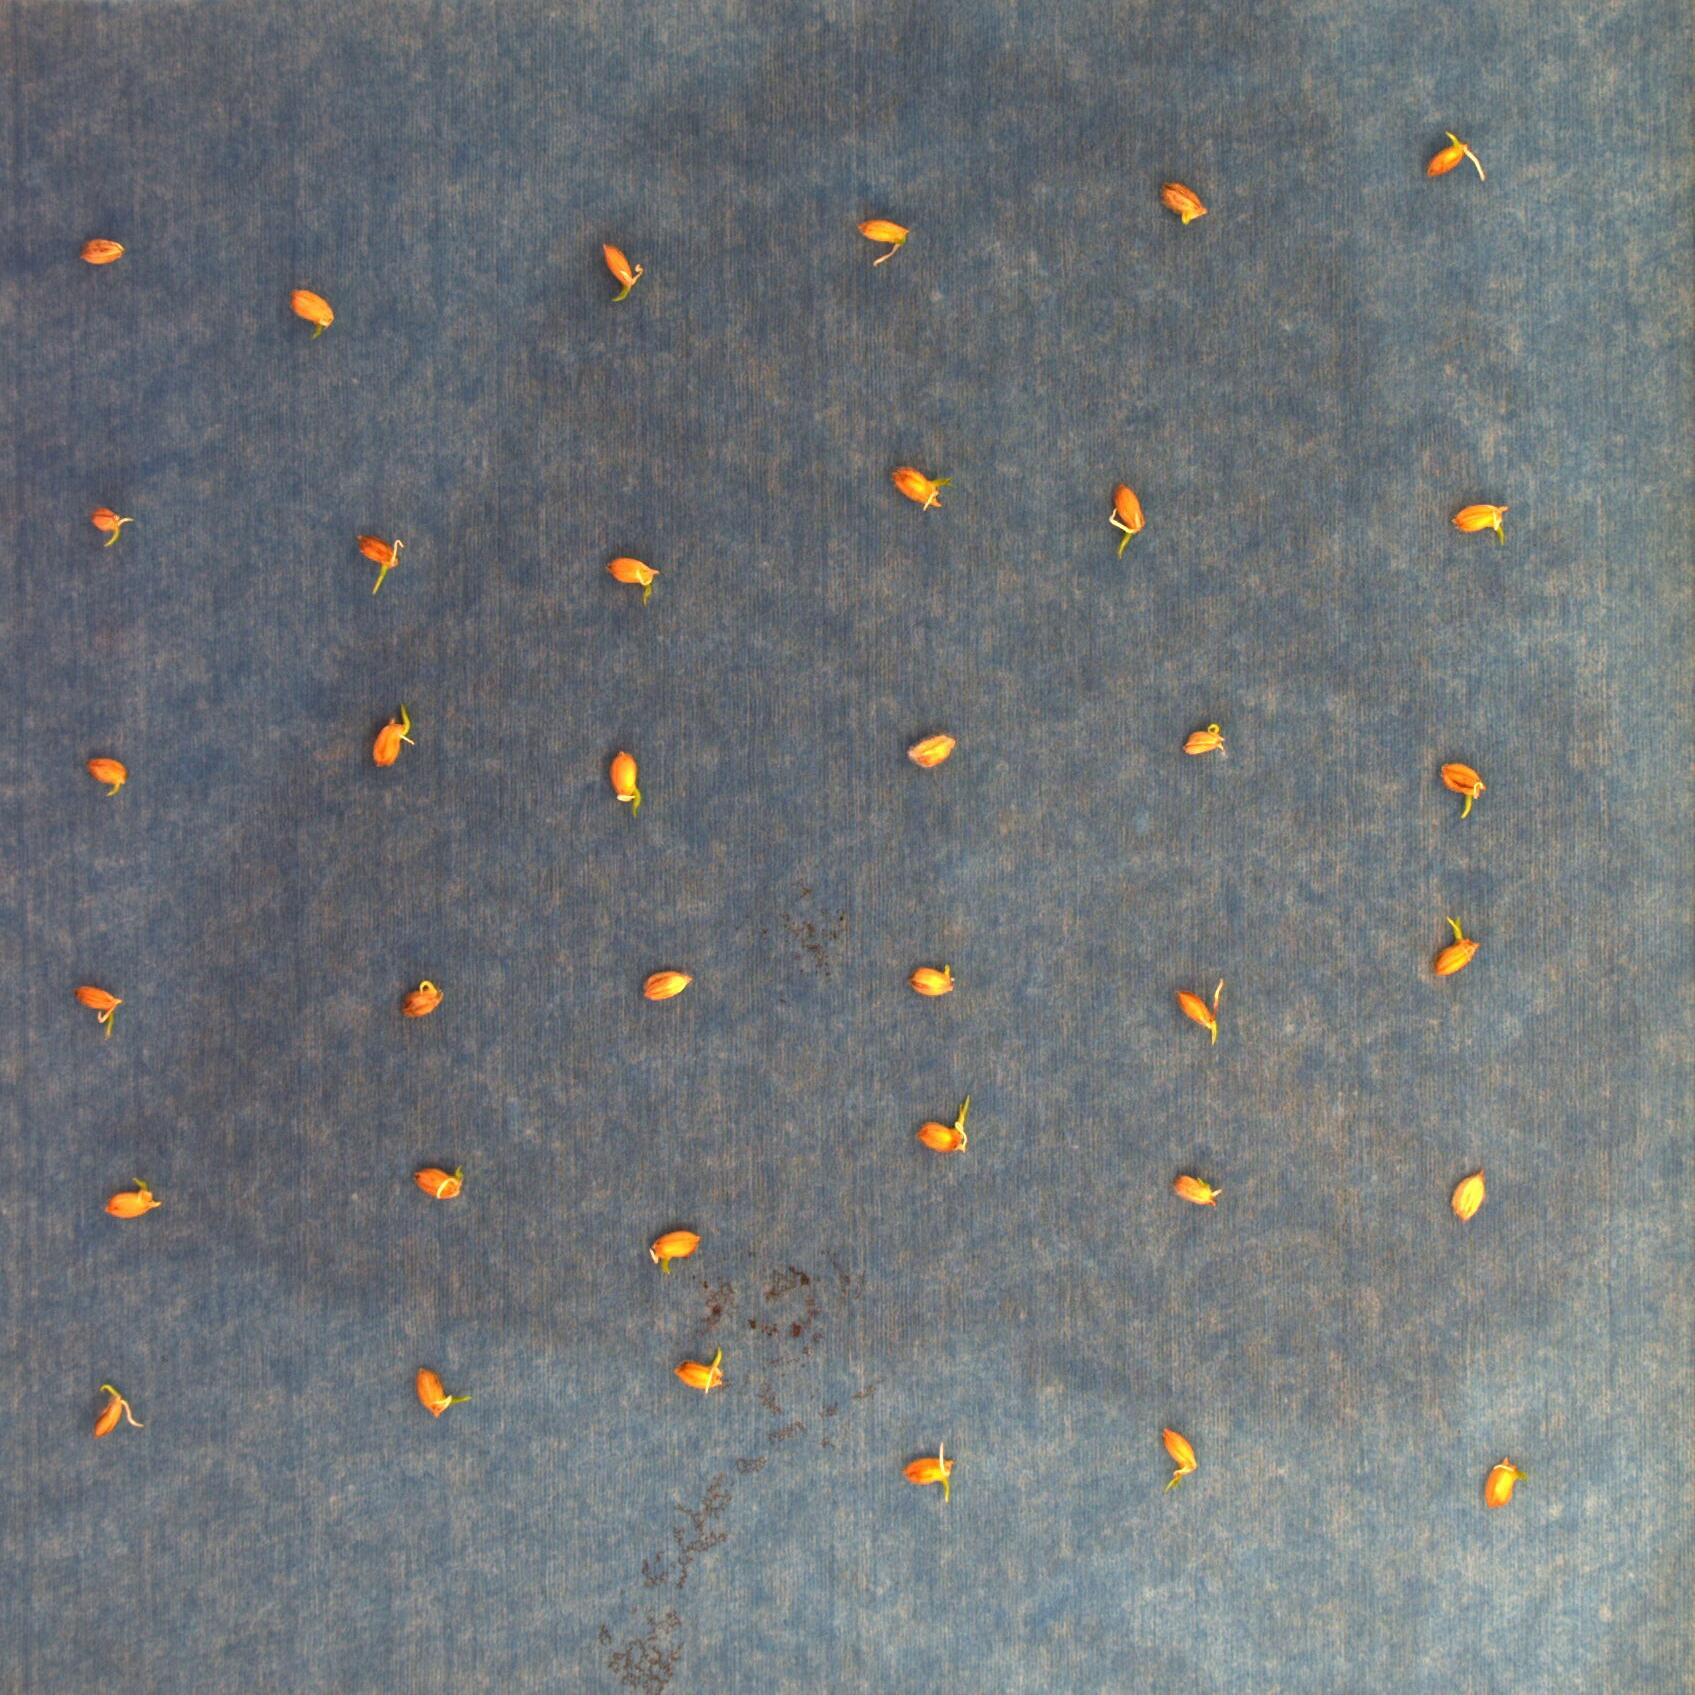not sprout: (1152, 1425, 1222, 1509), (1167, 973, 1236, 1049), (1467, 1450, 1537, 1523), (1437, 486, 1516, 549), (68, 973, 130, 1049), (593, 734, 650, 812), (658, 1346, 742, 1399), (1431, 1161, 1496, 1225), (588, 553, 671, 601), (882, 466, 964, 514), (638, 1212, 709, 1267), (278, 281, 341, 335), (855, 206, 913, 265), (400, 1360, 456, 1419), (897, 723, 962, 771), (78, 750, 141, 798), (633, 961, 698, 1007), (413, 1163, 473, 1212), (102, 1178, 169, 1220), (911, 951, 964, 1001), (1170, 1161, 1226, 1208), (1158, 180, 1209, 225), (1173, 719, 1229, 757), (397, 976, 442, 1023), (81, 227, 130, 269)
sprout: (81, 1374, 151, 1450), (1104, 477, 1158, 560), (911, 1090, 975, 1161), (1419, 910, 1487, 973), (355, 528, 418, 594), (897, 1445, 959, 1510), (1422, 130, 1495, 185), (359, 703, 418, 767), (593, 237, 649, 304), (1437, 751, 1489, 821), (84, 503, 140, 557)
